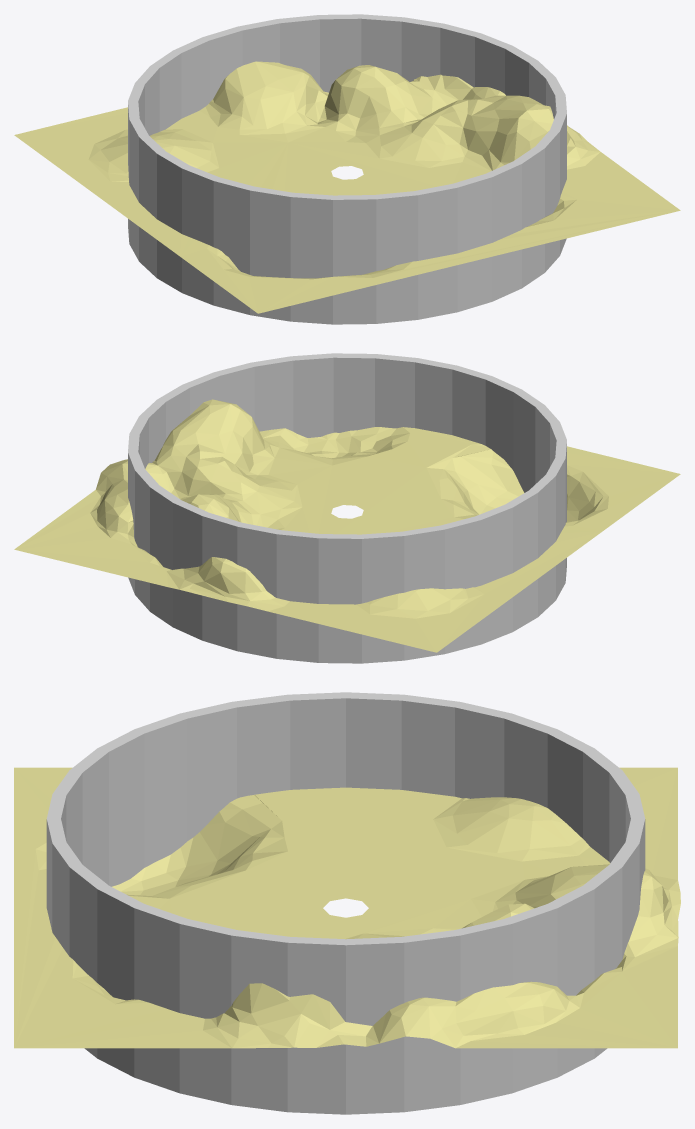
File: environment.fbx
The picture shows the model from 3 angles, top to bottom: view 1: azimuth 30°, elevation 25°; view 2: azimuth 150°, elevation 25°; view 3: azimuth 270°, elevation 25°; orthographic projection. The views are drawn at different scales.
Visible parts, largest first — view 1: Wall, Sand; view 2: Wall, Sand; view 3: Wall, Sand.
Boxes of the visible parts, x1,y1,x2,y2 form: Wall: (128, 14, 566, 324); Sand: (14, 61, 680, 313); Wall: (128, 353, 566, 663); Sand: (14, 399, 680, 652); Wall: (46, 692, 645, 1114); Sand: (14, 767, 680, 1048).
Size of the model in its own units: 35850 by 35661 by 10000.
